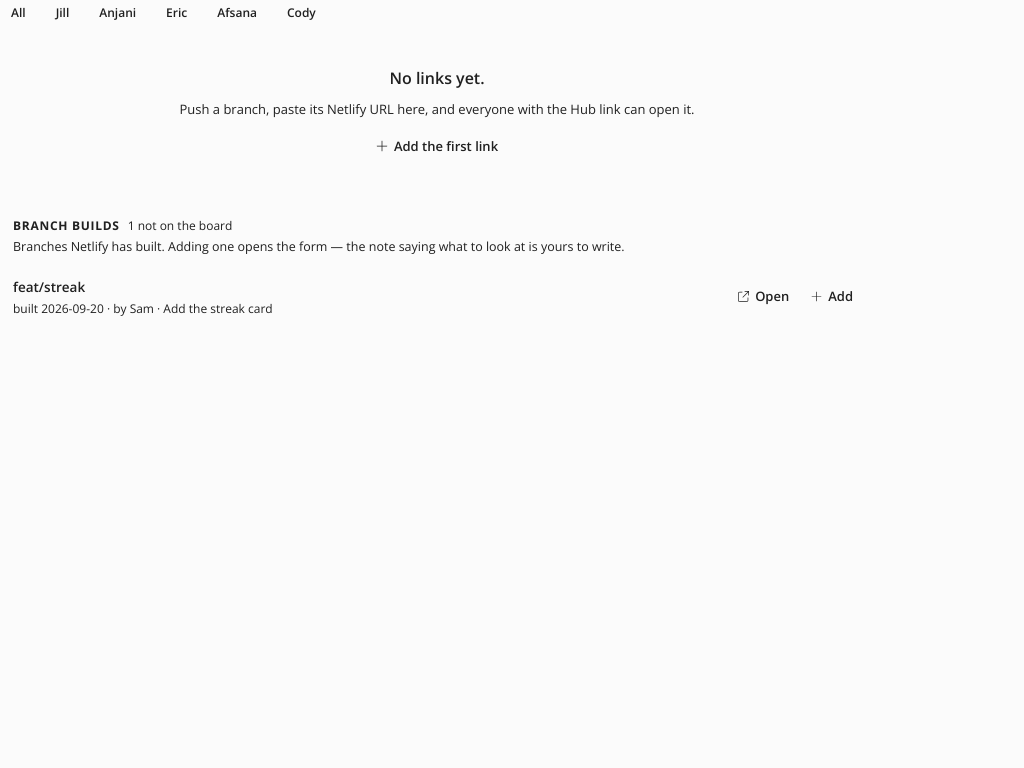
the Refinement branch strip › Add opens the form prefilled and writes nothing
The width and height of the screenshot is (1024, 768).
Click the button "Add" at (832, 296), box x1=803 y1=282 x2=861 y2=311
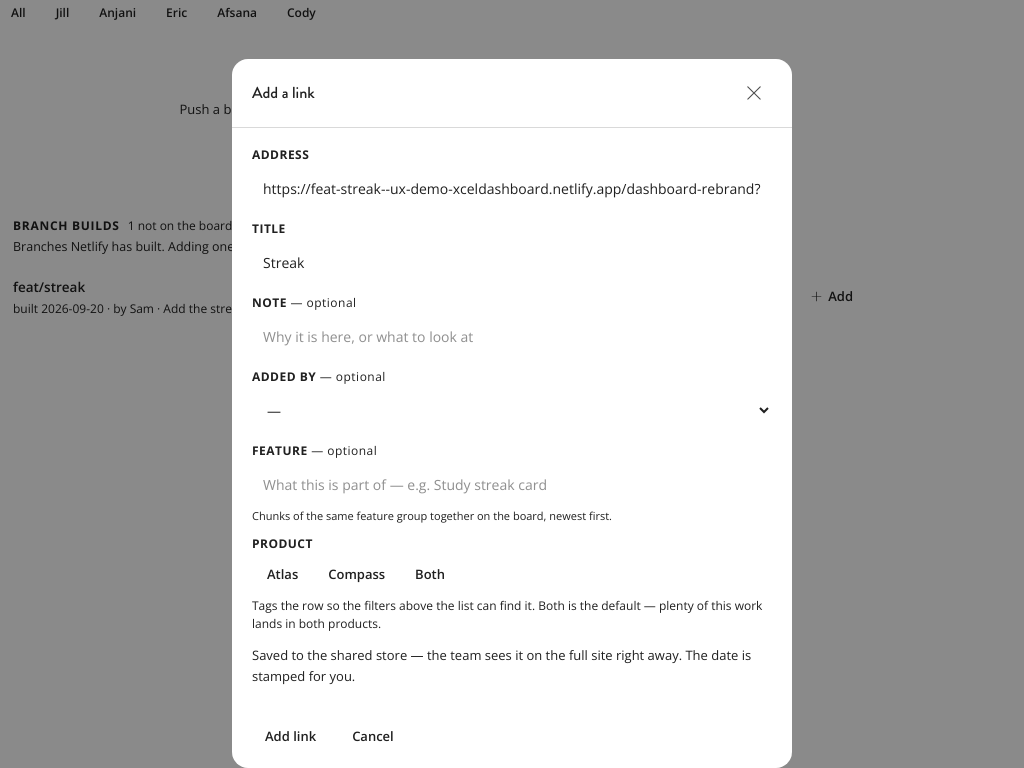
Now the field labelled "Address" holds "https://feat-streak--ux-demo-xceldashboard.netlify.app/dashboard-rebrand?demo=1", box x1=252 y1=169 x2=772 y2=208
Now the field labelled "Title" holds "Streak", box x1=252 y1=243 x2=772 y2=282
